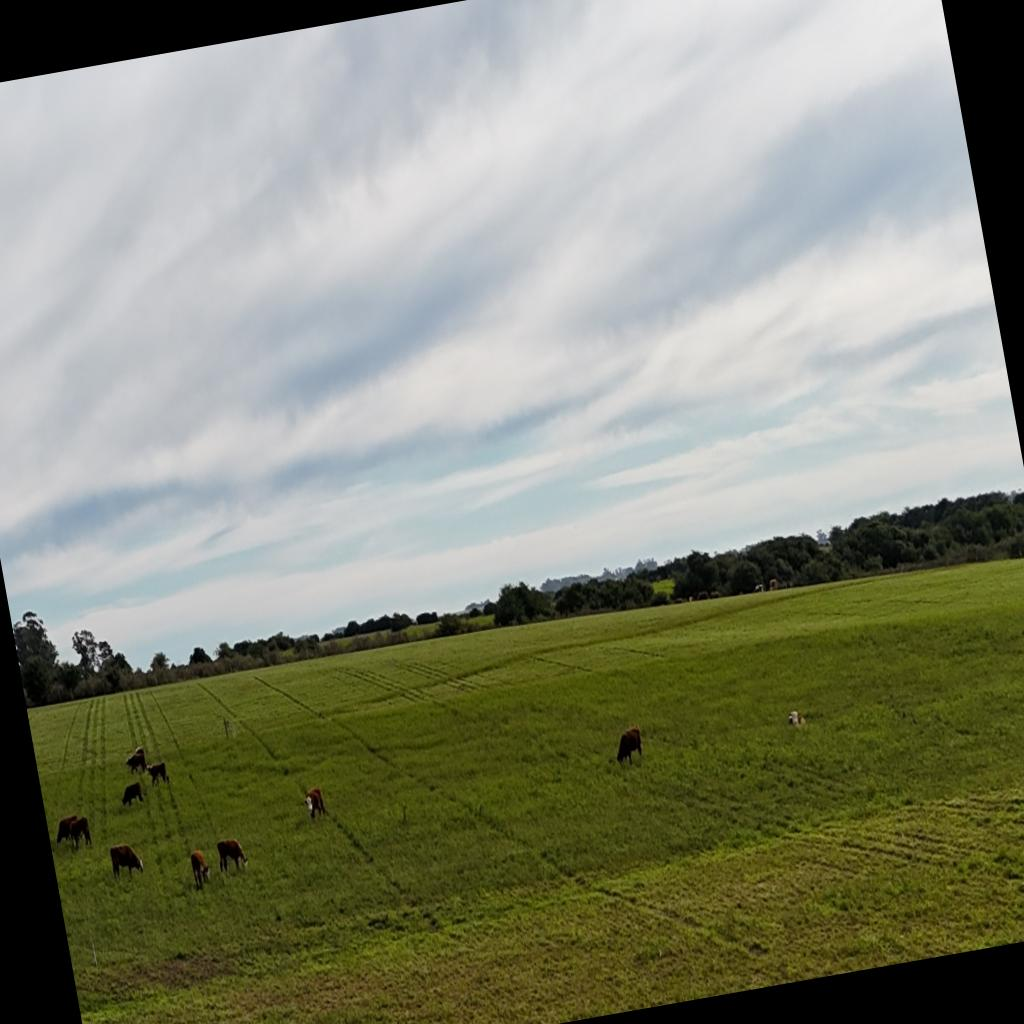cow: (108, 841, 146, 883), (612, 726, 646, 769), (216, 836, 250, 876), (189, 848, 214, 890), (65, 816, 94, 852), (303, 786, 326, 822), (119, 781, 145, 809), (145, 761, 170, 788), (124, 751, 148, 777), (788, 704, 810, 728), (56, 814, 80, 830), (134, 745, 146, 759)
